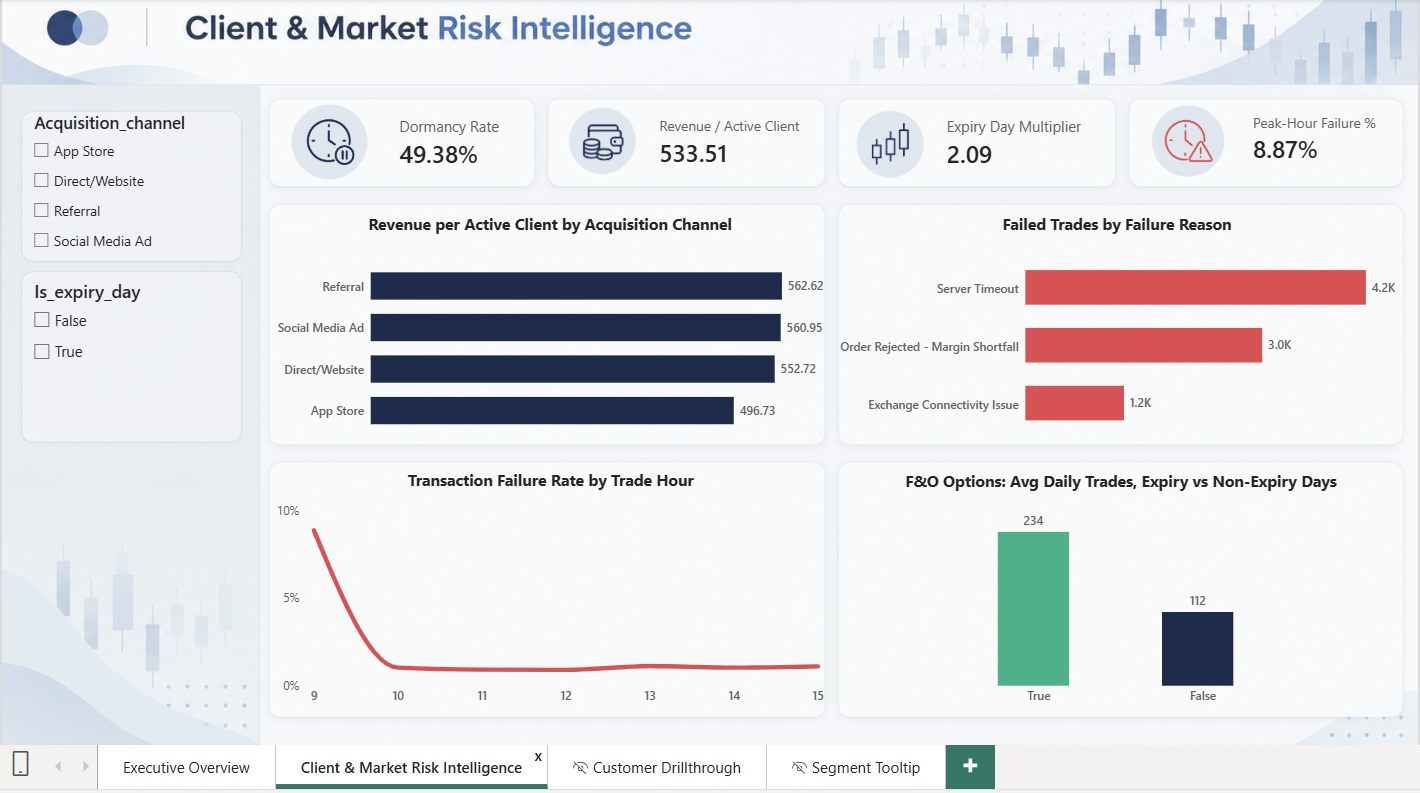

What the dashboard file says about the page in this screenshot:
{"tool":"powerbi","page":{"name":"Client & Market Risk Intelligence","canvas":[1920,1080],"ordinal":1},"visuals":[{"type":"cardVisual","fields":{"Data":["Measures (2).Revenue per Active Client"]},"box":[860,160,258.3,120],"z":0},{"type":"cardVisual","fields":{"Data":["Measures (2).Dormancy Rate"]},"box":[506.7,160,220,120],"z":1000},{"type":"barChart","title":"Revenue per Active Client by Acquisition Channel","fields":{"Category":["Dim_Customer.acquisition_channel"],"Y":["Measures (2).Revenue per Active Client"]},"box":[356.5,298.6,774.5,347.5],"z":2000},{"type":"slicer","fields":{"Values":["Dim_Customer.acquisition_channel"]},"box":[35,175,286.7,210],"z":3000},{"type":"lineChart","title":"Transaction Failure Rate by Trade Hour","fields":{"Category":["Fact_Trades.Trade Hour"],"Y":["Measures (2).Transaction Failure Rate"]},"box":[356.5,646,776.3,354.7],"z":4000},{"type":"clusteredColumnChart","title":"F&O Options: Avg Daily Trades, Expiry vs Non-Expiry Days","fields":{"Category":["Dim_Date.is_expiry_day"],"Y":["Measures (2).Avg F&O Options Trades per Market Day"]},"box":[1133.3,646.7,766.7,353.3],"z":5000},{"type":"cardVisual","fields":{"Data":["Measures (2).Expiry Day Volume Multiplier"]},"box":[1248.3,160,256.7,120],"z":6000},{"type":"slicer","fields":{"Values":["Dim_Date.is_expiry_day"]},"box":[35.5,403.2,294.1,218.1],"z":7000},{"type":"cardVisual","fields":{"Data":["Measures (2).Peak Hour Failure Rate"]},"box":[1665,160,235,111.7],"z":8000},{"type":"barChart","title":"Failed Trades by Failure Reason","fields":{"Y":["Measures (2).Failed Trades"],"Category":["Fact_Trades.failure_reason"]},"box":[1118.3,298.3,786.7,341.7],"z":9000},{"type":"image","box":[356.7,150,165,133.3],"z":10000},{"type":"image","box":[755,158.3,131.7,116.7],"z":11000},{"type":"image","box":[1133.3,163.3,130,116.7],"z":12000},{"type":"image","box":[1535,155,156.7,125],"z":13000}]}

Visuals, with their boxes on the page's 1920x1080 design canvas (x1, y1, x2, y2). These are canvas units, not pixel positions in the 1420x793 screenshot, which may show the page scaled, cropped or inside an application window:
cardVisual - Measures (2).Revenue per Active Client: box(860, 160, 1118, 280)
cardVisual - Measures (2).Dormancy Rate: box(507, 160, 727, 280)
"Revenue per Active Client by Acquisition Channel" barChart: box(356, 299, 1131, 646)
slicer - Dim_Customer.acquisition_channel: box(35, 175, 322, 385)
"Transaction Failure Rate by Trade Hour" lineChart: box(356, 646, 1133, 1001)
"F&O Options: Avg Daily Trades, Expiry vs Non-Expiry Days" clusteredColumnChart: box(1133, 647, 1900, 1000)
cardVisual - Measures (2).Expiry Day Volume Multiplier: box(1248, 160, 1505, 280)
slicer - Dim_Date.is_expiry_day: box(36, 403, 330, 621)
cardVisual - Measures (2).Peak Hour Failure Rate: box(1665, 160, 1900, 272)
"Failed Trades by Failure Reason" barChart: box(1118, 298, 1905, 640)
image: box(357, 150, 522, 283)
image: box(755, 158, 887, 275)
image: box(1133, 163, 1263, 280)
image: box(1535, 155, 1692, 280)
